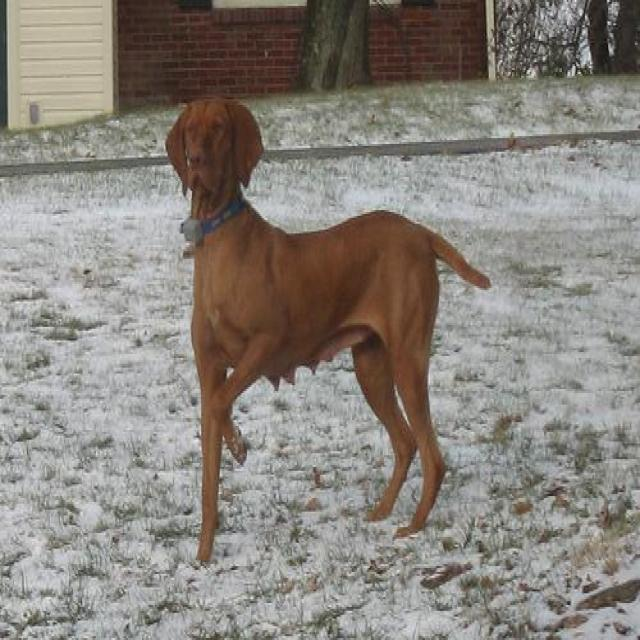vizsla: (159, 93, 493, 572)
